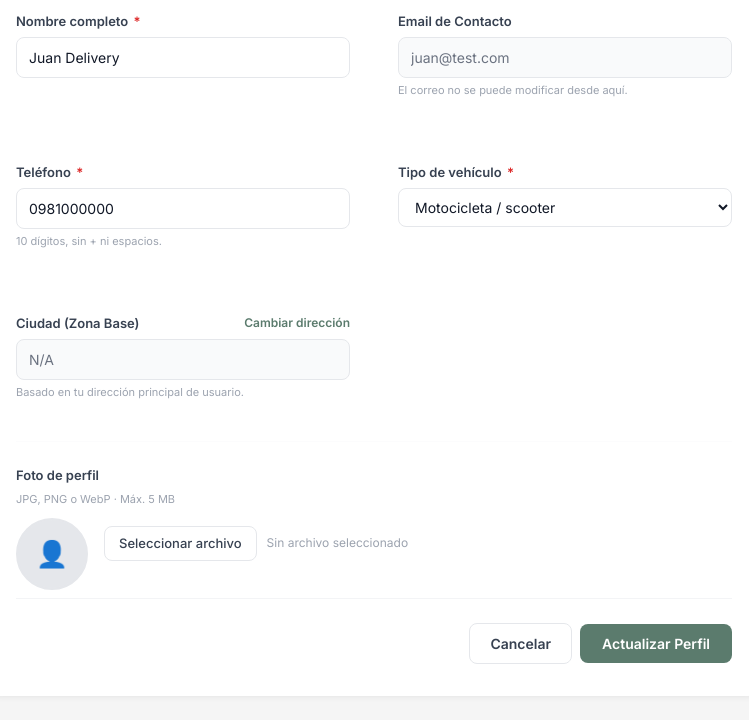
DeliveryEditProfilePage › Guardado › muestra error inline si updateMyDelivery falla
This screenshot has width=749, height=720.
(page scrolled)
Click the button "Actualizar Perfil" at (656, 643), box [580,624,732,662]
(page scrolled)
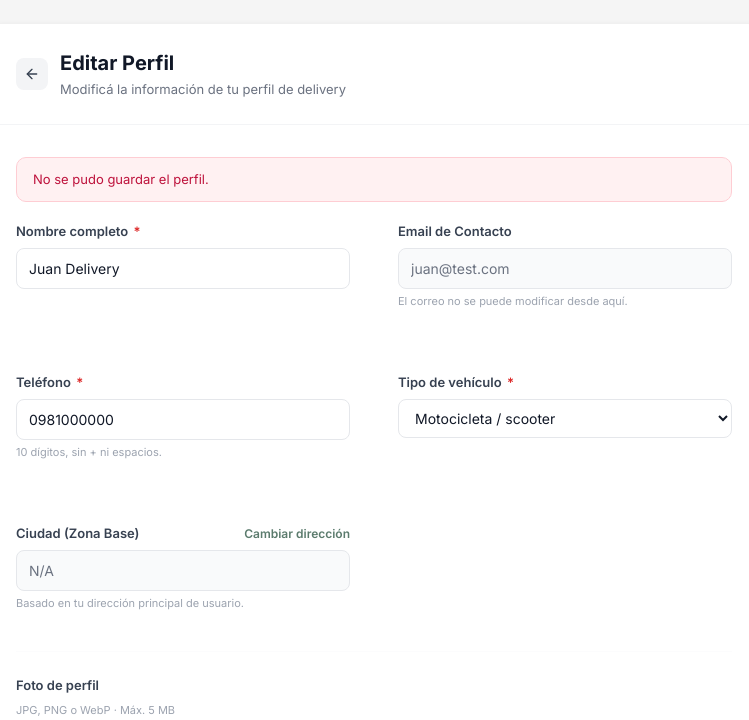
Expected: the text "No se pudo guardar el perfil." is shown, [16,156,732,202]
